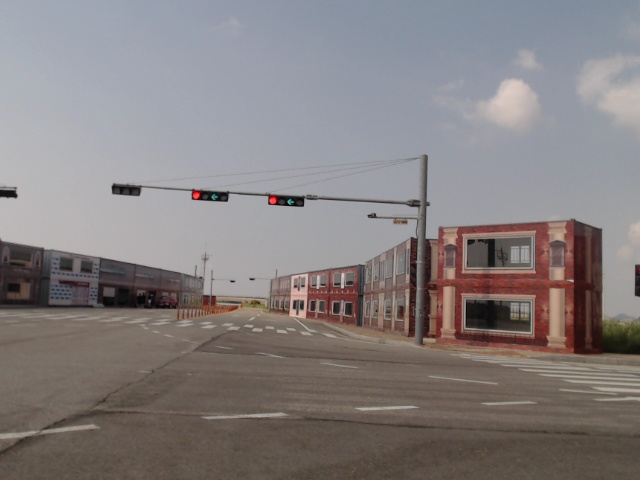left_green_4: (193, 190, 229, 202), (268, 195, 304, 207)
